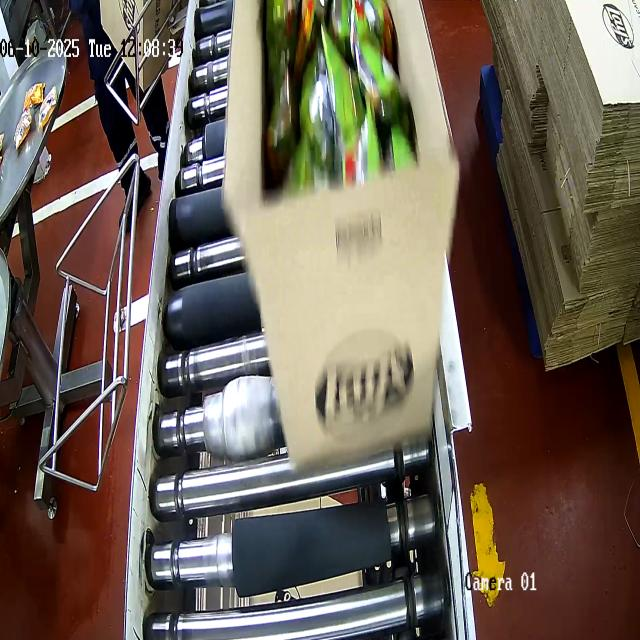YOGURT_HERB: (266, 0, 408, 193)
